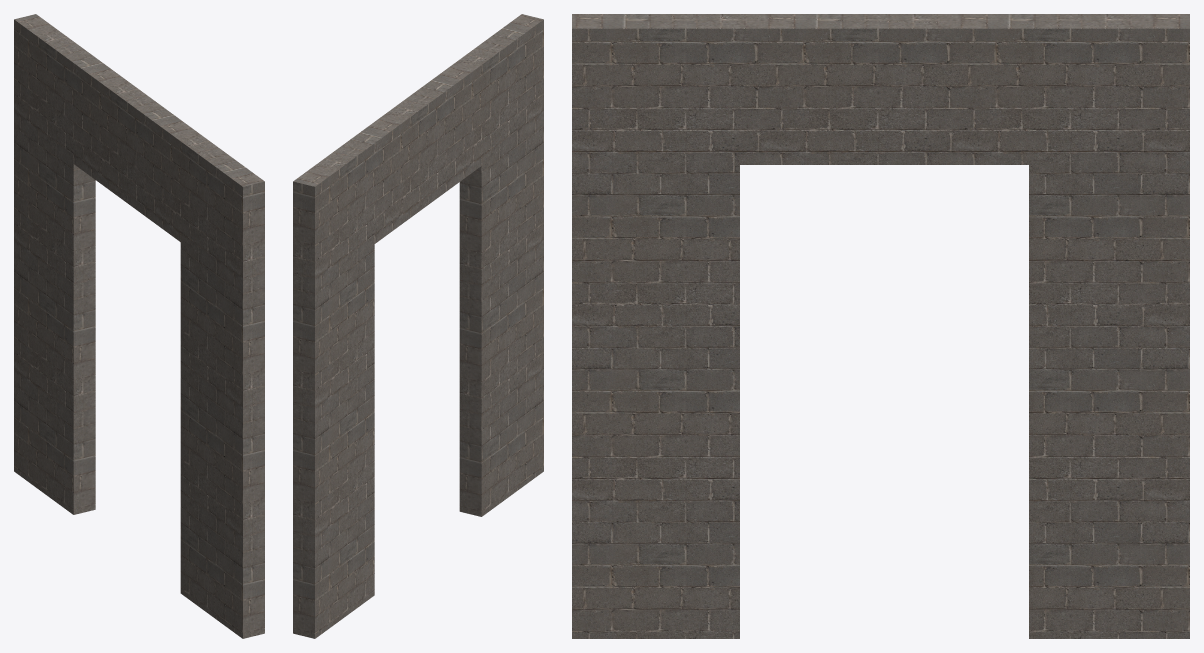
File: soupdoorwall009.glb
3 renders of one model, left to right at view 1: azimuth 30°, elevation 25°; view 2: azimuth 150°, elevation 25°; view 3: azimuth 270°, elevation 25°, orthographic. The views are drawn at different scales.
Visible parts, largest first — view 1: soupdoorwall009_high_1; view 2: soupdoorwall009_high_1; view 3: soupdoorwall009_high_1.
Part boxes in pixels (<box>): soupdoorwall009_high_1: <box>14,14,264,638</box>; soupdoorwall009_high_1: <box>293,14,543,638</box>; soupdoorwall009_high_1: <box>572,14,1189,638</box>.
Size of the model in its own units: 0.1504 by 2.95 by 2.7.
Materials: 1 (1 with a texture image).
